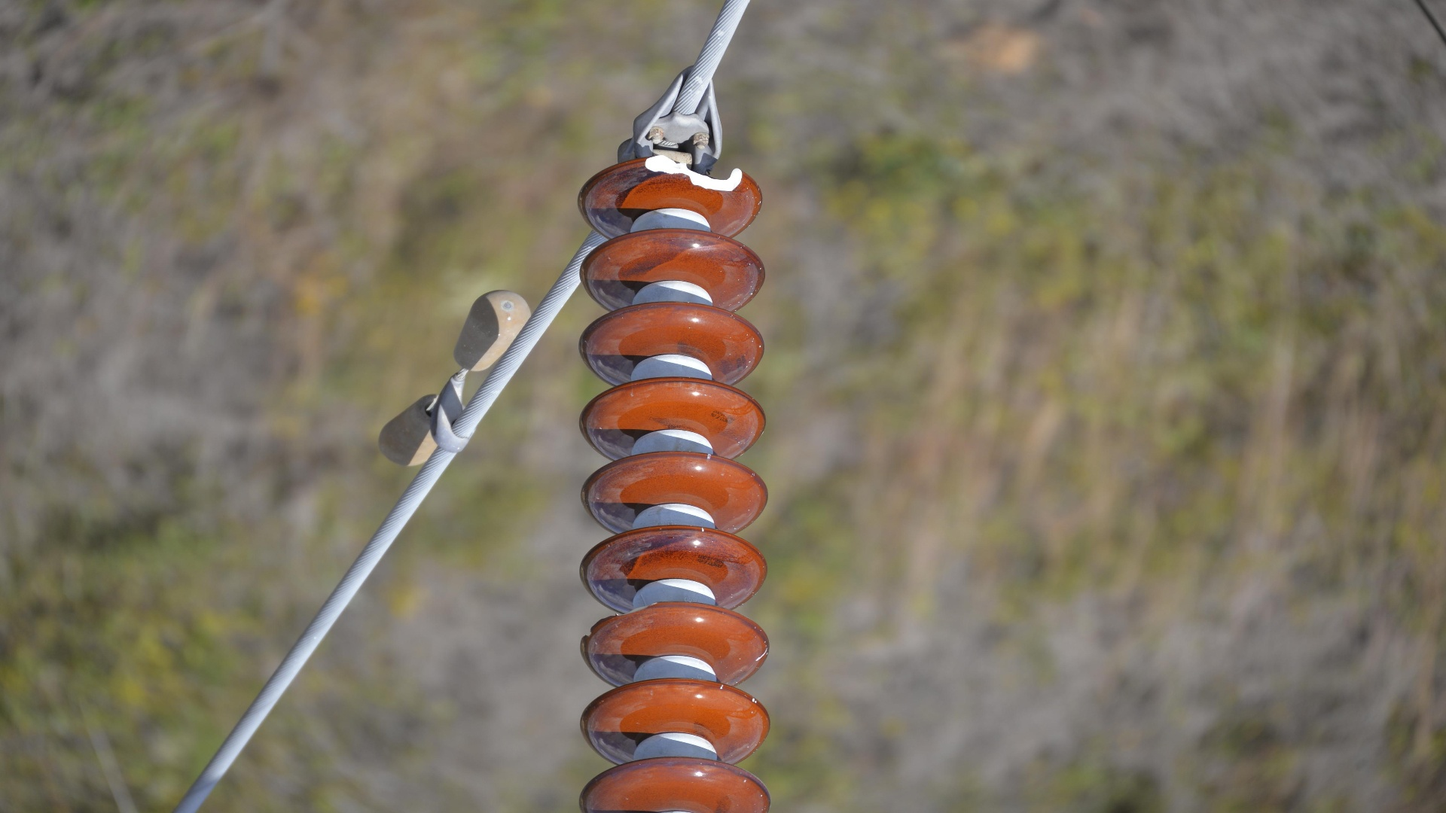insulator: (568, 150, 773, 813)
insulator_breakage: (639, 151, 751, 196)
